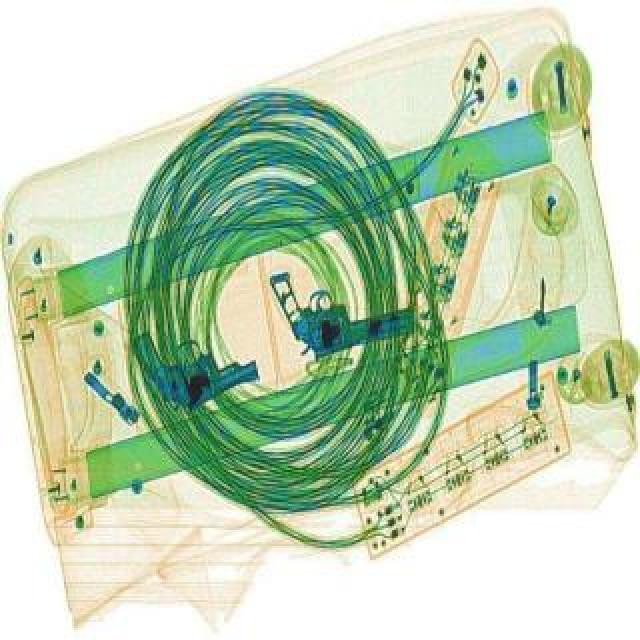gun: (264, 244, 420, 362), (124, 296, 264, 414)
